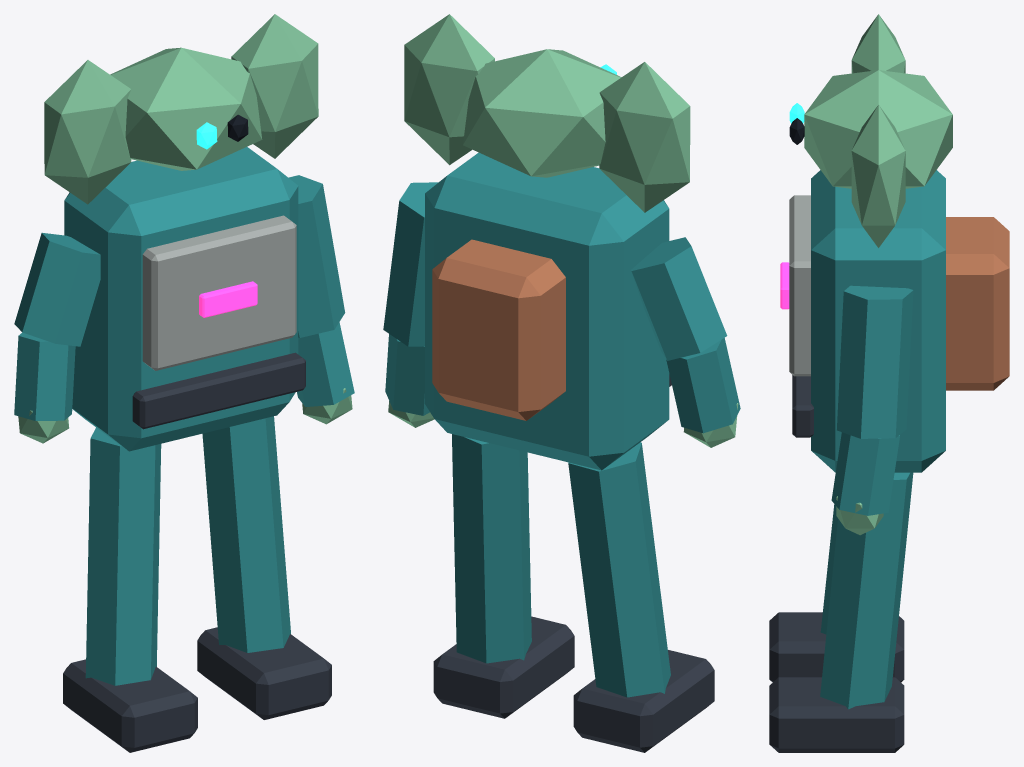
File: npcs_016_seed11.glb
3 views of the same model, side by side, from view 1: azimuth 30°, elevation 25°; view 2: azimuth 150°, elevation 25°; view 3: azimuth 270°, elevation 25° (orthographic). The views are drawn at different scales.
Visible parts, largest first — view 1: npcs_016_seed11; view 2: npcs_016_seed11; view 3: npcs_016_seed11.
Part boxes in pixels (x1,y1,x2,y2): npcs_016_seed11: (14,14,354,752); npcs_016_seed11: (383,14,740,752); npcs_016_seed11: (769,14,1009,752).
Bounding box in the file's own units: 0.8244 × 1.55 × 0.5187.
